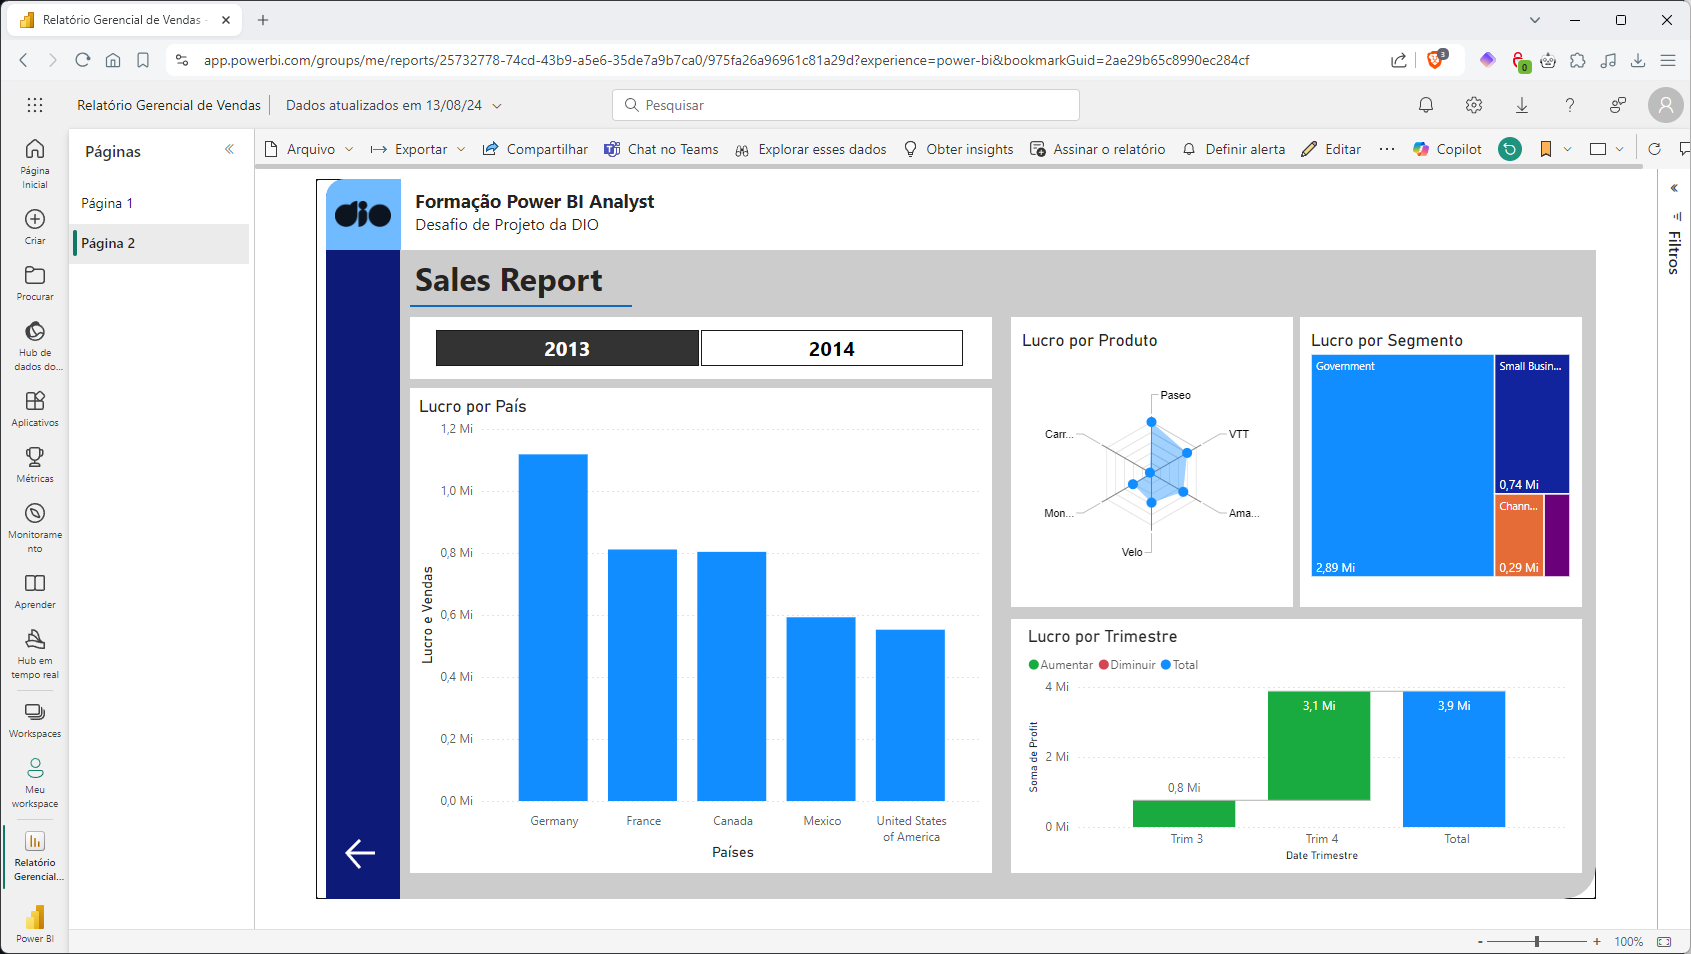

Layout of this report page (visuals, bound fields, positions):
{"tool":"powerbi","page":{"name":"Página 2","canvas":[1280,720],"ordinal":1},"visuals":[{"type":"group","id":"g1","title":"Plano de fundo","box":[10.3,0,1269.7,720.4],"z":0},{"type":"shape","box":[10.3,0,74.7,720.4],"z":0,"group":"g1"},{"type":"textbox","title":"Título 01","box":[93.7,3.6,261,62.9],"z":0,"group":"g2"},{"type":"shape","box":[94.2,138.2,581.9,61.7],"z":0,"group":"g8"},{"type":"shape","box":[94.2,209.3,581.9,484.6],"z":0,"group":"g3"},{"type":"actionButton","title":"Seta","box":[24.5,654.5,45.3,39.5],"z":0,"group":"g6"},{"type":"shape","box":[10.3,0,74.7,71.2],"z":1000,"group":"g1"},{"type":"group","id":"g2","title":"Títulos","box":[93.7,3.6,261,155.4],"z":1000},{"type":"textbox","title":"Título 02","box":[93.7,71.2,221.8,67.6],"z":1000,"group":"g2"},{"type":"columnChart","title":"Lucro por País","fields":{"Category":["financials.Country"],"Y":["Sum(financials.Profit)"]},"box":[98.4,217.8,573.4,468.9],"z":1000,"group":"g3"},{"type":"actionButton","box":[19.8,654.5,50,39.5],"z":1000,"group":"g6"},{"type":"image","title":"Logo","box":[10.9,1.8,71.9,66.5],"z":2000,"group":"g1"},{"type":"shape","box":[93.7,94.9,221.8,64.1],"z":2000,"group":"g2"},{"type":"group","id":"g3","title":"Gráfico principal","box":[94.2,209.3,581.9,484.6],"z":2000},{"type":"shape","box":[694.9,138.2,281.5,289.9],"z":2500,"group":"g4"},{"type":"shape","box":[983.8,138.2,281.5,289.9],"z":2500,"group":"g7"},{"type":"shape","box":[85,0,1195,71.2],"z":3000,"group":"g1"},{"type":"group","id":"g4","title":"Vendas x Produto","box":[694.9,138.2,281.5,289.9],"z":3000},{"type":"RadarChart1446119667547","title":"Lucro por Produto","fields":{"Y":["Sum(financials.Profit)"],"Category":["financials.Product"]},"box":[701,151.1,269.3,267.9],"z":3000,"group":"g4"},{"type":"shape","box":[694.9,439.6,570.7,253.9],"z":3296,"group":"g5"},{"type":"waterfallChart","title":"Lucro por Trimestre","fields":{"Y":["Sum(financials.Profit)"],"Category":["financials.Date.Variation.Hierarquia de datas.Trimestre"]},"box":[706.9,447.1,547,239.2],"z":3593,"group":"g5"},{"type":"shape","box":[83.8,71.2,1196.1,649.2],"z":4000,"group":"g1"},{"type":"group","id":"g5","title":"Vendas x Segmento","box":[694.9,439.6,570.7,253.9],"z":4000},{"type":"group","id":"g6","title":"Botão seta","box":[19.8,654.5,50,39.5],"z":5000},{"type":"group","id":"g7","title":"Vendas x Produto","box":[983.8,138.2,281.5,289.9],"z":6000},{"type":"group","id":"g8","title":"Gráfico principal","box":[94,138.2,582.1,61.7],"z":7000},{"type":"slicer","fields":{"Values":["financials.Date.Variation.Hierarquia de datas.Ano"]},"box":[94,144.3,576.7,50.2],"z":7001,"group":"g8"},{"type":"treemap","title":"Lucro por Segmento","fields":{"Values":["Sum(financials.Profit)"],"Group":["financials.Segment"]},"box":[990.3,150.9,268.5,251.8],"z":7001}]}

Visuals, with their boxes on the page's 1280x720 design canvas (x1, y1, x2, y2). These are canvas units, not pixel positions in the 1691x954 screenshot, which may show the page scaled, cropped or inside an application window:
"Plano de fundo" group: x1=10, y1=0, x2=1280, y2=720
shape: x1=10, y1=0, x2=85, y2=720
"Título 01" textbox: x1=94, y1=4, x2=355, y2=66
shape: x1=94, y1=138, x2=676, y2=200
shape: x1=94, y1=209, x2=676, y2=694
"Seta" actionButton: x1=24, y1=654, x2=70, y2=694
shape: x1=10, y1=0, x2=85, y2=71
"Títulos" group: x1=94, y1=4, x2=355, y2=159
"Título 02" textbox: x1=94, y1=71, x2=316, y2=139
"Lucro por País" columnChart: x1=98, y1=218, x2=672, y2=687
actionButton: x1=20, y1=654, x2=70, y2=694
"Logo" image: x1=11, y1=2, x2=83, y2=68
shape: x1=94, y1=95, x2=316, y2=159
"Gráfico principal" group: x1=94, y1=209, x2=676, y2=694
shape: x1=695, y1=138, x2=976, y2=428
shape: x1=984, y1=138, x2=1265, y2=428
shape: x1=85, y1=0, x2=1280, y2=71
"Vendas x Produto" group: x1=695, y1=138, x2=976, y2=428
"Lucro por Produto" RadarChart1446119667547: x1=701, y1=151, x2=970, y2=419
shape: x1=695, y1=440, x2=1266, y2=694
"Lucro por Trimestre" waterfallChart: x1=707, y1=447, x2=1254, y2=686
shape: x1=84, y1=71, x2=1280, y2=720
"Vendas x Segmento" group: x1=695, y1=440, x2=1266, y2=694
"Botão seta" group: x1=20, y1=654, x2=70, y2=694
"Vendas x Produto" group: x1=984, y1=138, x2=1265, y2=428
"Gráfico principal" group: x1=94, y1=138, x2=676, y2=200
slicer - financials.Date.Variation.Hierarquia de datas.Ano: x1=94, y1=144, x2=671, y2=194
"Lucro por Segmento" treemap: x1=990, y1=151, x2=1259, y2=403
